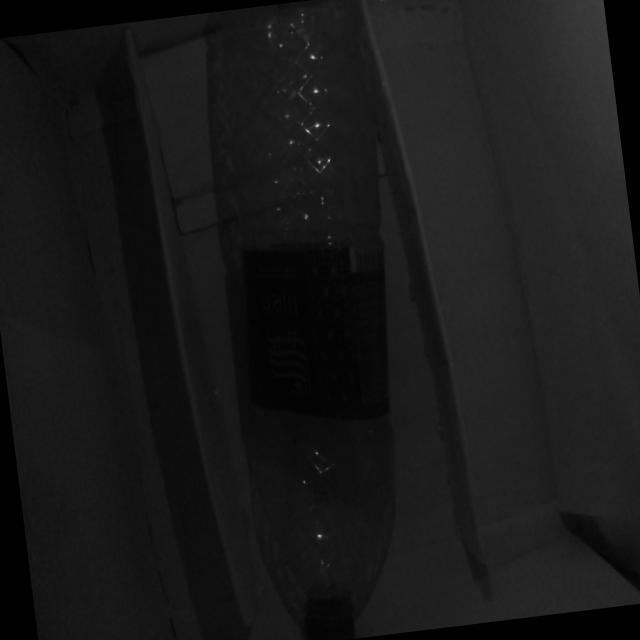good: (168, 0, 445, 640)
